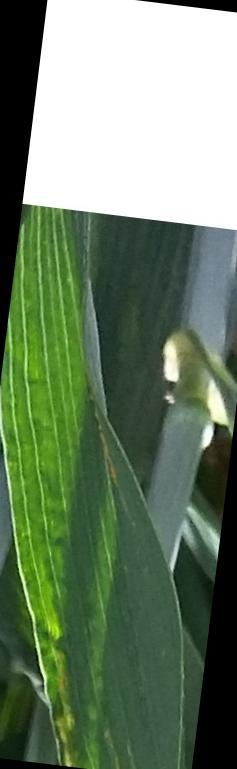Wheat: (9, 221, 114, 471), (20, 476, 142, 619)
